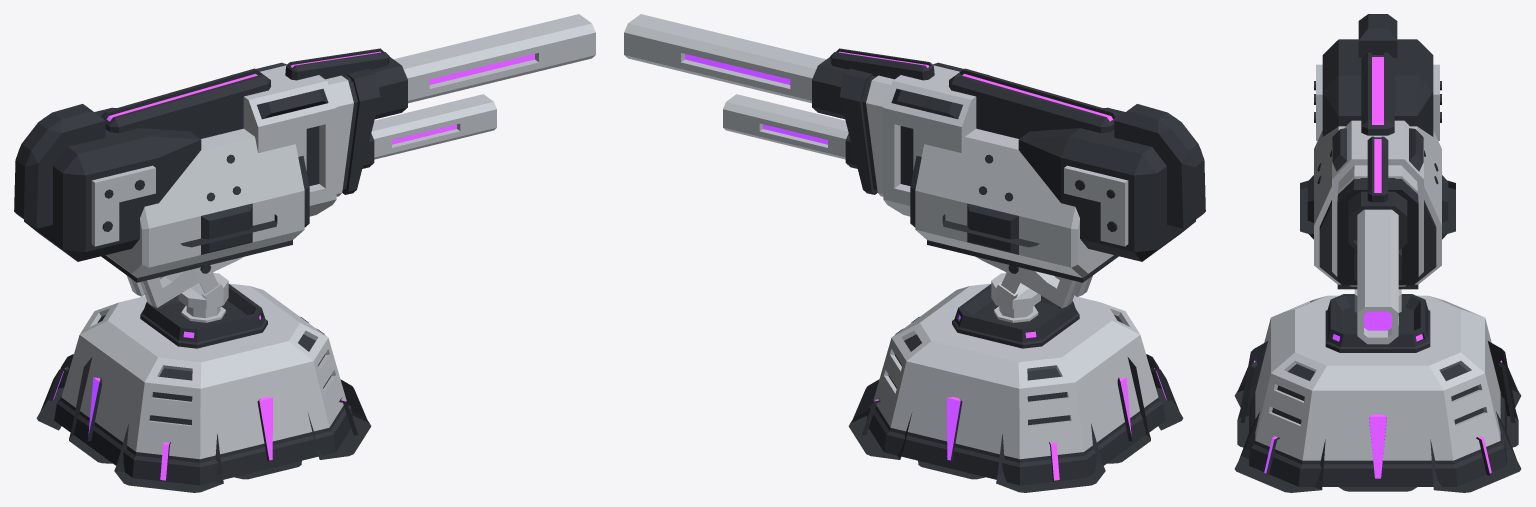
The model's file is TurretUp.glb.
3 renders of one model, left to right at view 1: azimuth 30°, elevation 25°; view 2: azimuth 150°, elevation 25°; view 3: azimuth 270°, elevation 25°, orthographic.
Parts seen in each view (by area): view 1: GunLight, GunDark, BaseLight, BaseDark, BaseTurretLight, GunNeon, BaseNeon; view 2: GunLight, GunDark, BaseLight, BaseDark, BaseTurretLight, GunNeon, BaseNeon; view 3: BaseLight, GunDark, BaseDark, GunLight, GunNeon, BaseNeon.
Boxes of the visible parts, x1=… form: GunLight: x1=91, y1=14, x2=595, y2=277; GunDark: x1=14, y1=48, x2=407, y2=282; BaseLight: x1=61, y1=283, x2=346, y2=459; BaseDark: x1=36, y1=284, x2=371, y2=492; BaseTurretLight: x1=126, y1=257, x2=243, y2=322; GunNeon: x1=106, y1=51, x2=534, y2=144; BaseNeon: x1=53, y1=315, x2=345, y2=480; GunLight: x1=624, y1=14, x2=1128, y2=277; GunDark: x1=812, y1=48, x2=1205, y2=282; BaseLight: x1=873, y1=283, x2=1158, y2=459; BaseDark: x1=848, y1=284, x2=1183, y2=492; BaseTurretLight: x1=976, y1=257, x2=1092, y2=322; GunNeon: x1=685, y1=51, x2=1113, y2=144; BaseNeon: x1=874, y1=315, x2=1166, y2=480; BaseLight: x1=1255, y1=295, x2=1500, y2=460; GunDark: x1=1300, y1=14, x2=1455, y2=289; BaseDark: x1=1234, y1=294, x2=1521, y2=492; GunLight: x1=1314, y1=64, x2=1441, y2=344; GunNeon: x1=1364, y1=57, x2=1391, y2=330; BaseNeon: x1=1253, y1=334, x2=1502, y2=478.
Bounding box in the file's own units: 5.18 × 3 × 2.25.
